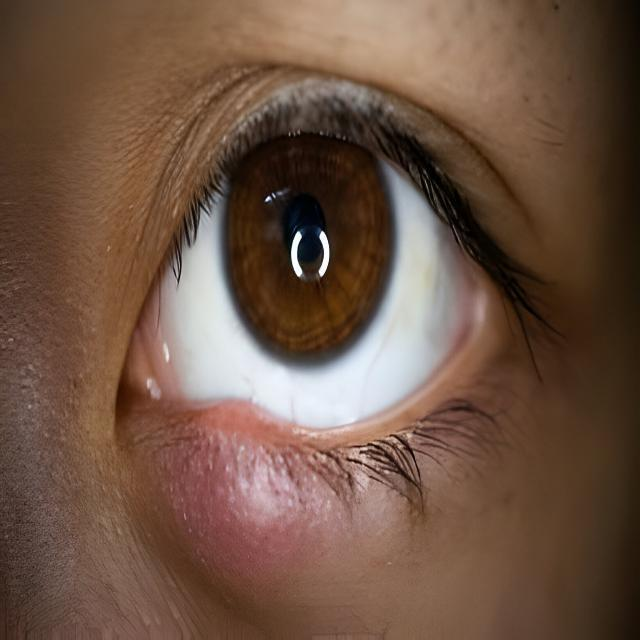Stye: (116, 405, 346, 598)
